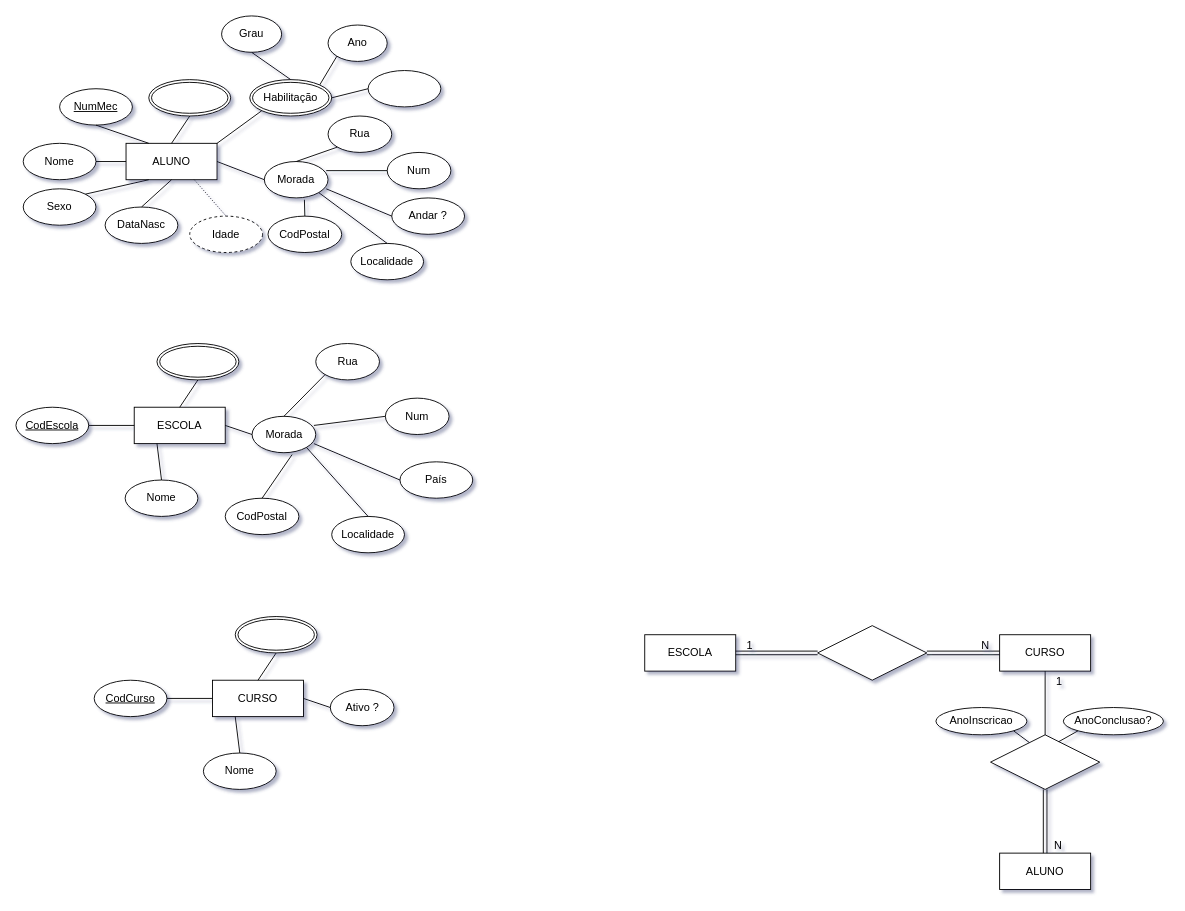
Image size: 1185x911. Some labels were removed from this diagram. The shapes that lost their labels are listed below. From the top down, each one's centre as x and y in pixels, then its label:
At point (189, 97): "NumTelef".
At point (404, 88): "Instituição".
At point (197, 361): "Telefone".
At point (275, 634): "Disciplinas".
At point (872, 652): "LECCIONA".
At point (1045, 761): "INSCRITO_EM".
